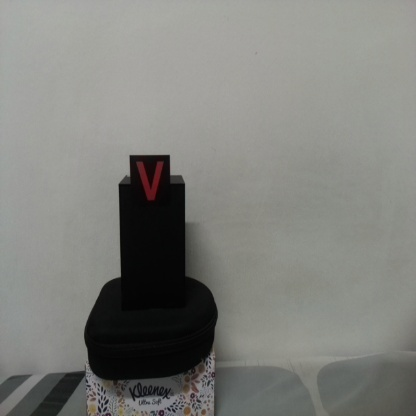id_11: (130, 154, 171, 210)
